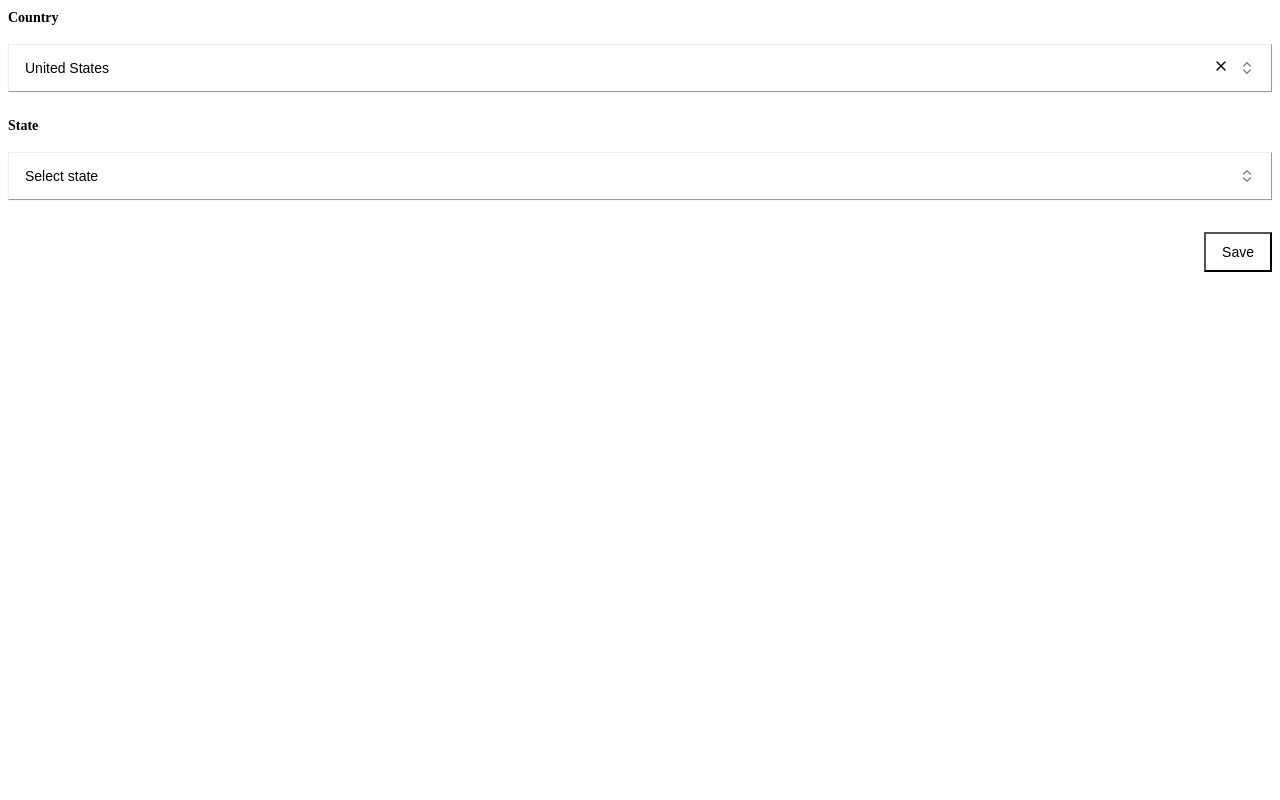
Test: Frontend UI Hooks Reactivity › should run async option hooks
Click the dropdown labelled "Select state" at (62, 176), box left=8, top=152, right=1272, bottom=200
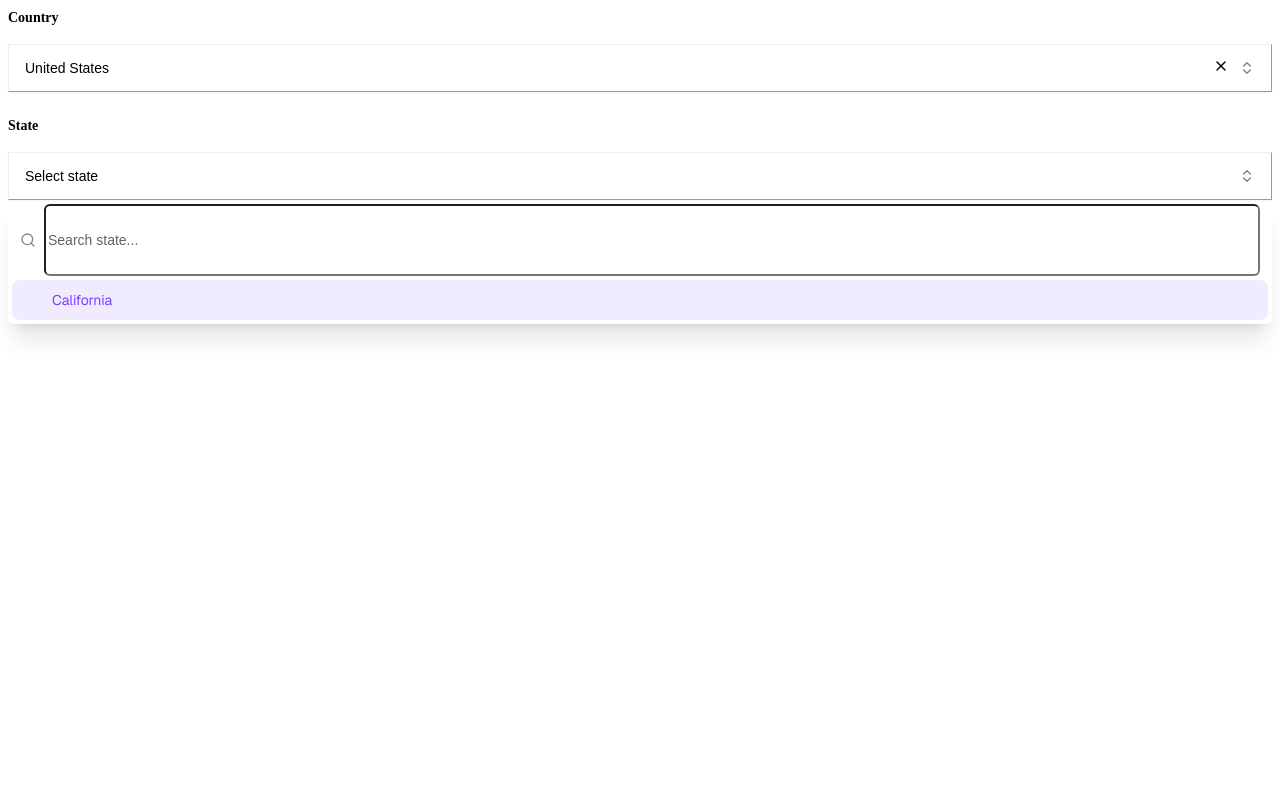
Check: the option "California" is shown, box left=12, top=280, right=1268, bottom=320
